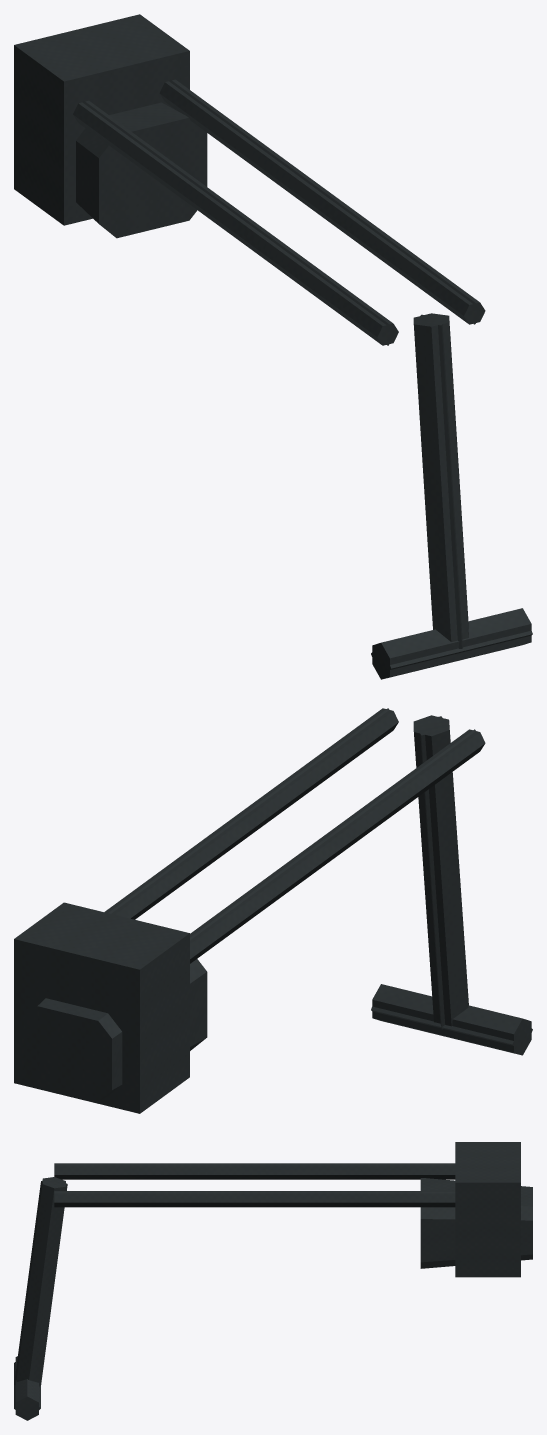
Rendered from kedr_stock.glb.
3 views of the same model, one above another, from view 1: azimuth 30°, elevation 25°; view 2: azimuth 150°, elevation 25°; view 3: azimuth 270°, elevation 25° (orthographic). The views are drawn at different scales.
Parts seen in each view (by area): view 1: stock__kedr_stock_LOD0_RAID_Secondary_Original_steel, stock__kedr_stock_LOD1_RAID_Secondary_Original_steel; view 2: stock__kedr_stock_LOD0_RAID_Secondary_Original_steel, stock__kedr_stock_LOD1_RAID_Secondary_Original_steel; view 3: stock__kedr_stock_LOD0_RAID_Secondary_Original_steel, stock__kedr_stock_LOD1_RAID_Secondary_Original_steel.
Part boxes in pixels (box(x1,y1,x2,y2)): stock__kedr_stock_LOD0_RAID_Secondary_Original_steel: box(14, 14, 531, 679); stock__kedr_stock_LOD1_RAID_Secondary_Original_steel: box(82, 79, 532, 678); stock__kedr_stock_LOD0_RAID_Secondary_Original_steel: box(14, 708, 531, 1113); stock__kedr_stock_LOD1_RAID_Secondary_Original_steel: box(108, 708, 532, 1054); stock__kedr_stock_LOD0_RAID_Secondary_Original_steel: box(15, 1142, 532, 1420); stock__kedr_stock_LOD1_RAID_Secondary_Original_steel: box(14, 1164, 455, 1420).
Bounding box in the file's own units: 0.072 × 0.174 × 0.347.
Materials: 1 (1 with a texture image).
